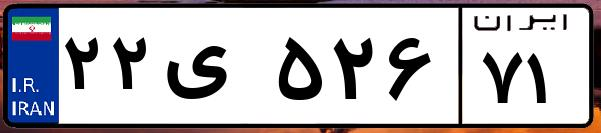1: (525, 38, 570, 115)
2: (330, 28, 385, 110), (57, 26, 110, 100), (110, 28, 158, 98)
5: (270, 28, 330, 110)
6: (385, 28, 445, 110)
7: (475, 38, 525, 113)
ی: (158, 20, 270, 120)
